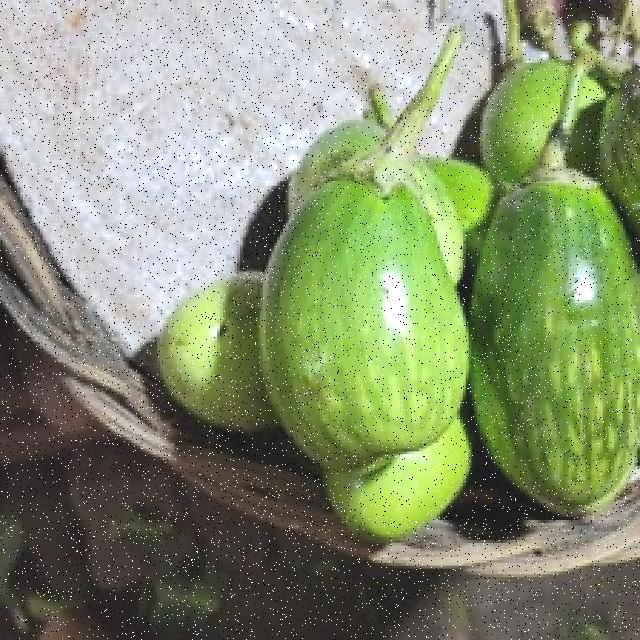Green Eggplant: (238, 117, 456, 472), (463, 143, 640, 540)
